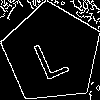L: (26, 28, 71, 81)
